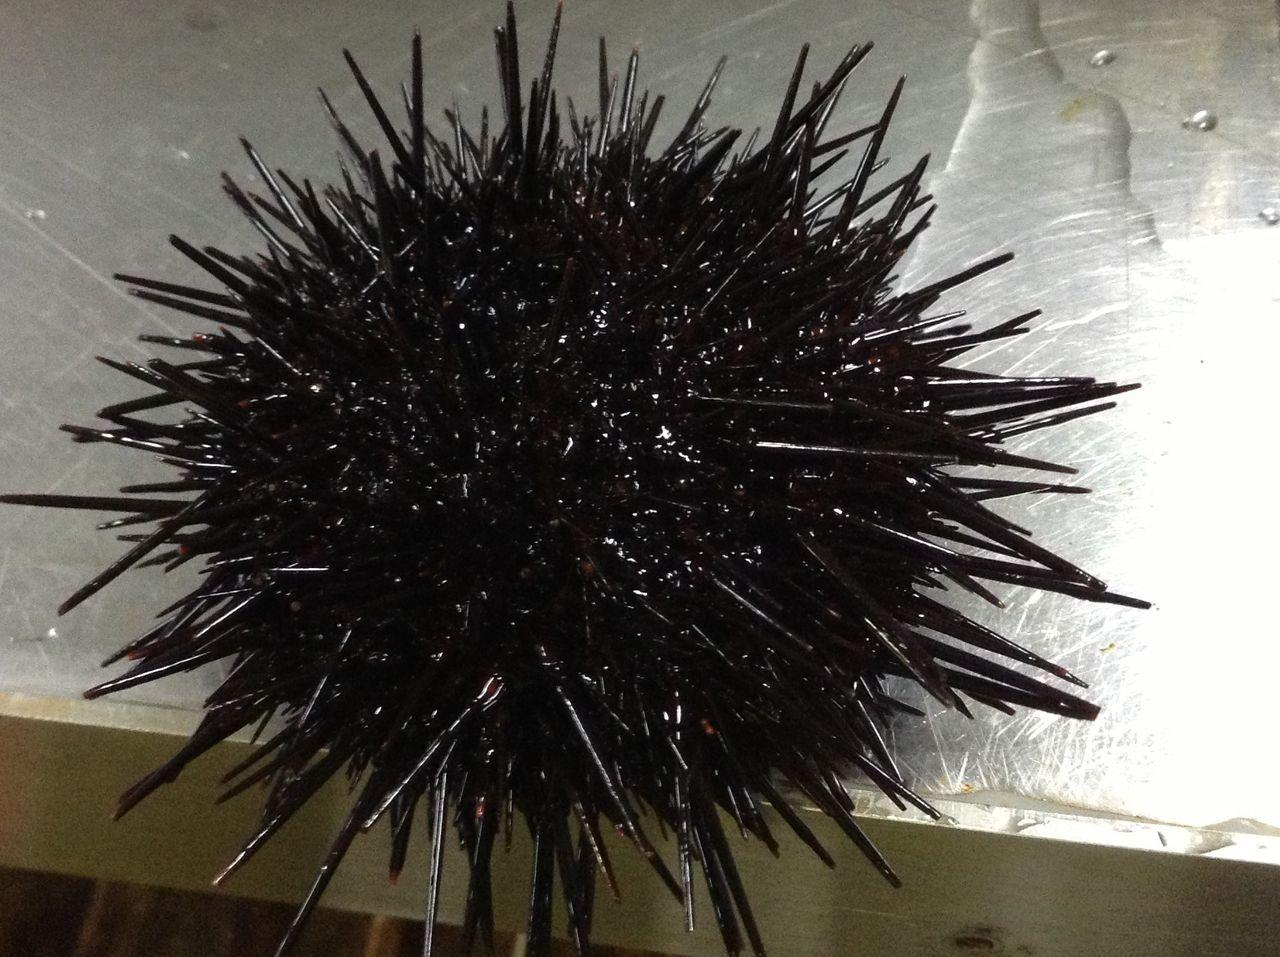urchin: (116, 65, 1117, 872)
